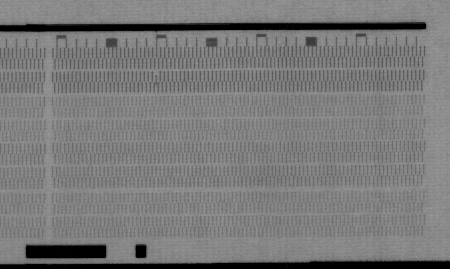Oblique printing: (150, 70, 164, 86)
